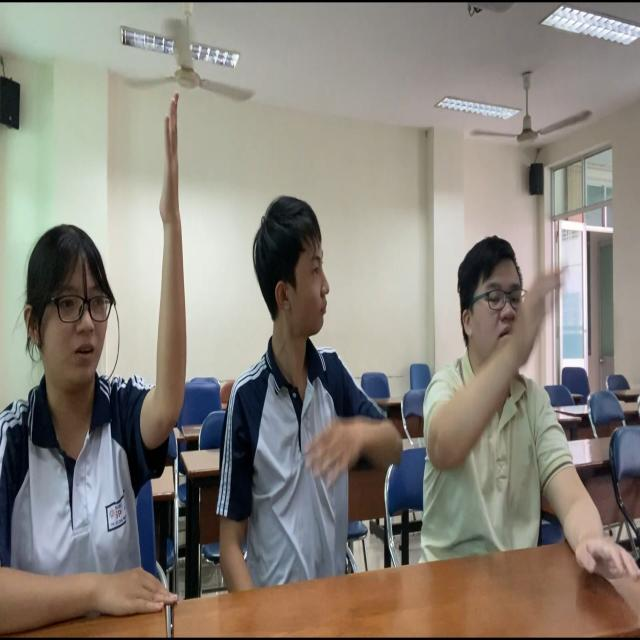raise_hand: (1, 84, 204, 640)
